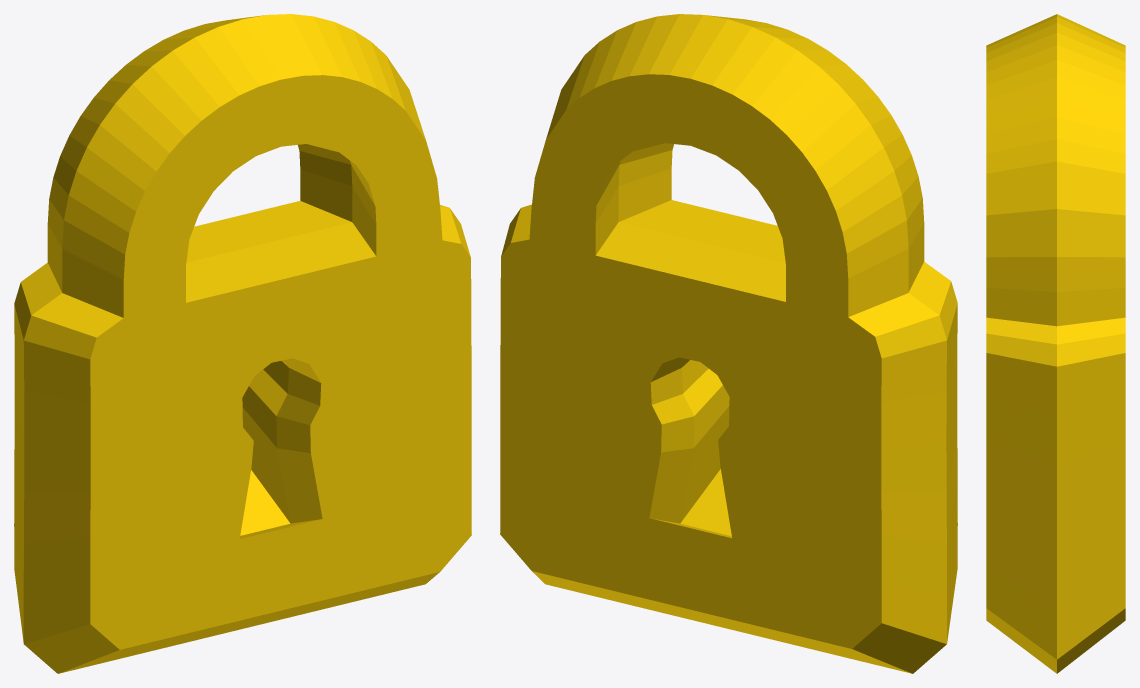
File: locksigil.fbx
The picture shows the model from 3 angles, left to right: view 1: azimuth 30°, elevation 25°; view 2: azimuth 150°, elevation 25°; view 3: azimuth 270°, elevation 25°; orthographic projection. The views are drawn at different scales.
Parts seen in each view (by area): view 1: Curve.002; view 2: Curve.002; view 3: Curve.002.
Boxes of the visible parts, x1,y1,x2,y2 form: Curve.002: (14, 14, 471, 673); Curve.002: (500, 14, 957, 673); Curve.002: (986, 14, 1125, 673).
Size of the model in its own units: 99.92 by 133 by 30.03.
